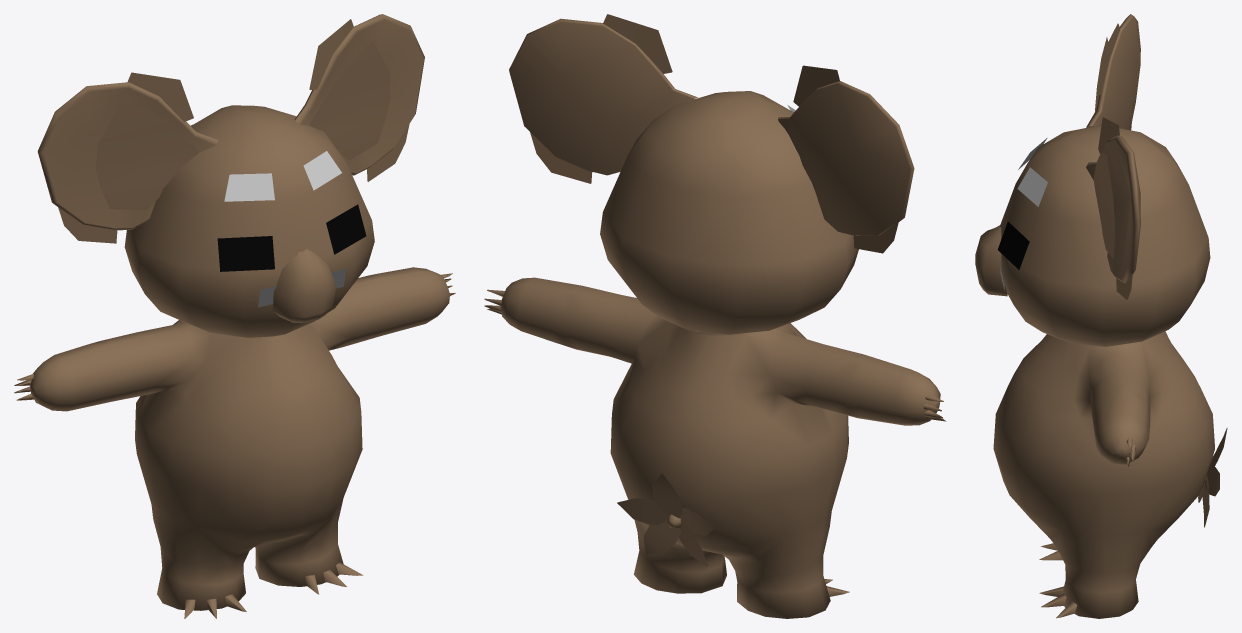
The model's file is MESH_STARANISEKOALA2.fbx.
The picture shows the model from 3 angles, left to right: view 1: azimuth 30°, elevation 25°; view 2: azimuth 150°, elevation 25°; view 3: azimuth 270°, elevation 25°; orthographic projection. The views are drawn at different scales.
Visible parts, largest first — view 1: MESH_STARANISEKOALA2; view 2: MESH_STARANISEKOALA2; view 3: MESH_STARANISEKOALA2.
Part boxes in pixels (bbox=[...]): MESH_STARANISEKOALA2: bbox=[14, 14, 455, 618]; MESH_STARANISEKOALA2: bbox=[484, 14, 946, 618]; MESH_STARANISEKOALA2: bbox=[975, 14, 1227, 618].
Size of the model in its own units: 87.14 by 100 by 45.54.
